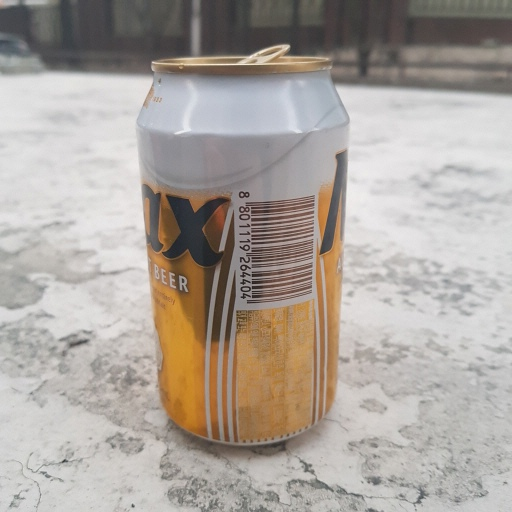Metal_0: (134, 43, 354, 450)
